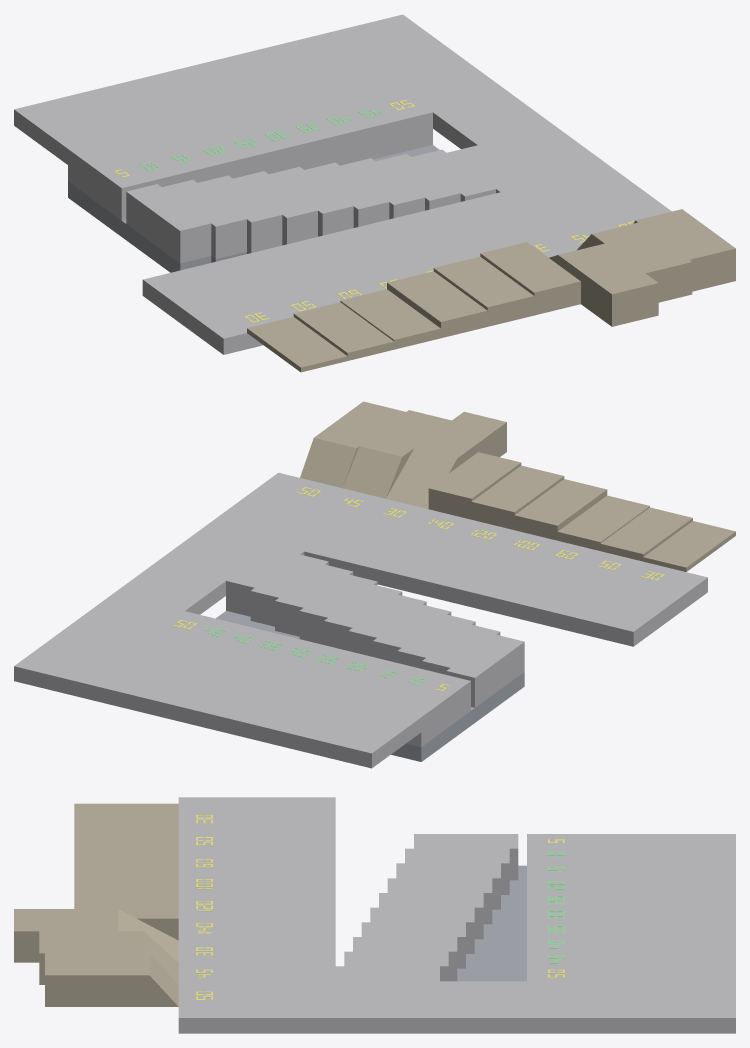
Rendered from parkour.glb.
The picture shows the model from 3 angles, top to bottom: view 1: azimuth 30°, elevation 25°; view 2: azimuth 150°, elevation 25°; view 3: azimuth 270°, elevation 25°; orthographic projection. The views are drawn at different scales.
Parts seen in each view (by area): view 1: course_floor_node, apron_node, walkway_node, top_07_node, landing_01_node, top_09_node, top_08_node, piece_06_node, runup_01_node, piece_04_node, piece_05_node, piece_02_node (+21 smaller); view 2: course_floor_node, apron_node, walkway_node, piece_06_node, landing_01_node, piece_04_node, piece_05_node, runup_01_node, top_07_node, piece_02_node, piece_03_node, piece_01_node (+24 smaller); view 3: course_floor_node, walkway_node, apron_node, top_09_node, top_07_node, top_08_node, piece_06_node, piece_02_node, piece_01_node, piece_04_node, piece_05_node, landing_02_node (+28 smaller).
Part boxes in pixels (bbox=[...]): course_floor_node: bbox=[142, 165, 671, 354]; apron_node: bbox=[14, 33, 378, 164]; walkway_node: bbox=[325, 14, 608, 184]; top_07_node: bbox=[558, 243, 658, 326]; landing_01_node: bbox=[126, 184, 211, 263]; top_09_node: bbox=[635, 209, 735, 291]; top_08_node: bbox=[591, 222, 692, 302]; piece_06_node: bbox=[480, 242, 580, 315]; runup_01_node: bbox=[68, 141, 152, 220]; piece_04_node: bbox=[387, 271, 487, 338]; piece_05_node: bbox=[433, 256, 534, 326]; piece_02_node: bbox=[293, 302, 394, 360]; course_floor_node: bbox=[204, 472, 707, 646]; apron_node: bbox=[85, 647, 421, 768]; walkway_node: bbox=[14, 527, 275, 698]; piece_06_node: bbox=[428, 452, 521, 519]; landing_01_node: bbox=[446, 634, 524, 707]; piece_04_node: bbox=[514, 479, 607, 540]; piece_05_node: bbox=[471, 465, 564, 529]; runup_01_node: bbox=[393, 674, 470, 746]; top_07_node: bbox=[415, 411, 506, 466]; piece_02_node: bbox=[600, 507, 692, 561]; piece_03_node: bbox=[557, 495, 649, 550]; piece_01_node: bbox=[643, 521, 735, 571]; course_floor_node: bbox=[178, 797, 335, 1033]; walkway_node: bbox=[335, 981, 735, 1033]; apron_node: bbox=[631, 834, 735, 981]; top_09_node: bbox=[45, 953, 149, 1006]; top_07_node: bbox=[14, 909, 118, 962]; top_08_node: bbox=[39, 931, 143, 984]; piece_06_node: bbox=[74, 896, 178, 940]; piece_02_node: bbox=[74, 822, 178, 842]; piece_01_node: bbox=[74, 803, 178, 822]; piece_04_node: bbox=[74, 858, 178, 877]; piece_05_node: bbox=[74, 877, 178, 896]; landing_02_node: bbox=[405, 848, 509, 894].
Bounding box in the file's own units: 30 × 5 × 41.46.
